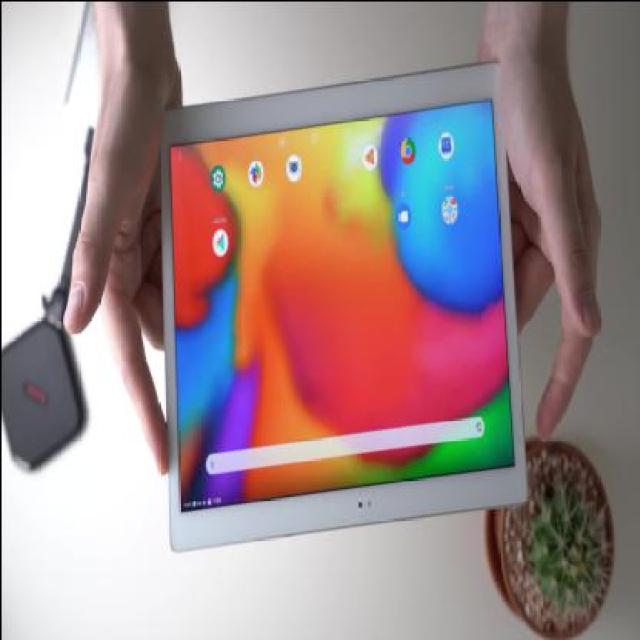tablet: (149, 45, 547, 576)
